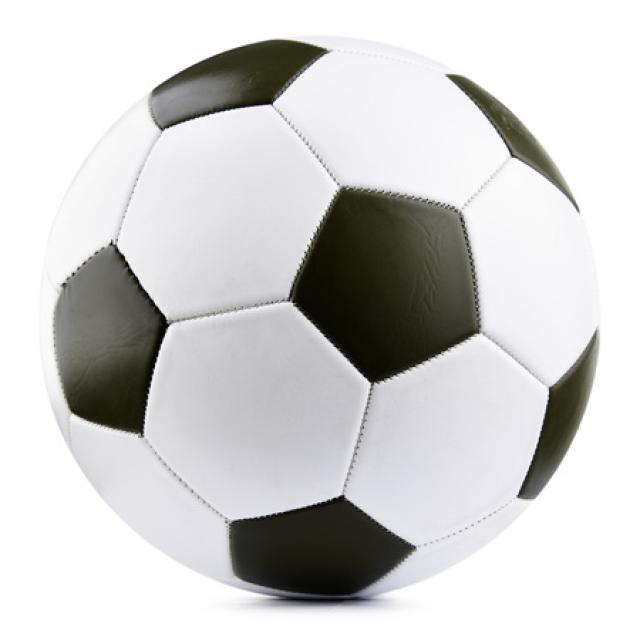soccer ball: (40, 33, 599, 596)
